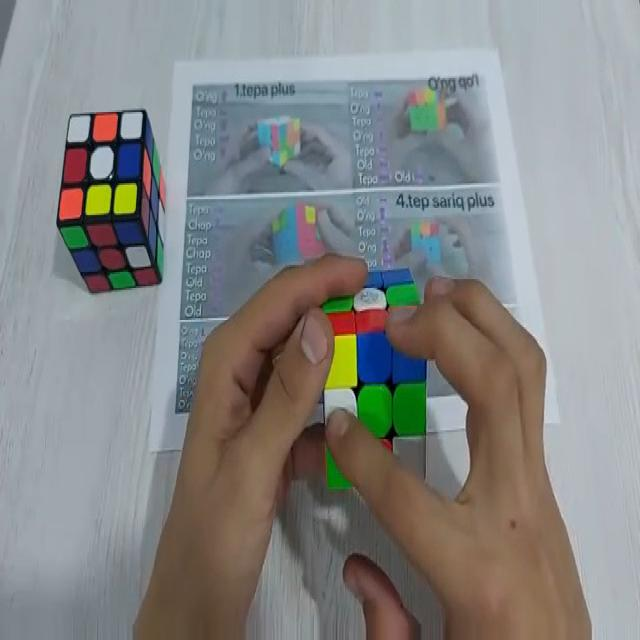Rub: (315, 265, 431, 491), (58, 107, 168, 299), (164, 296, 167, 299)
